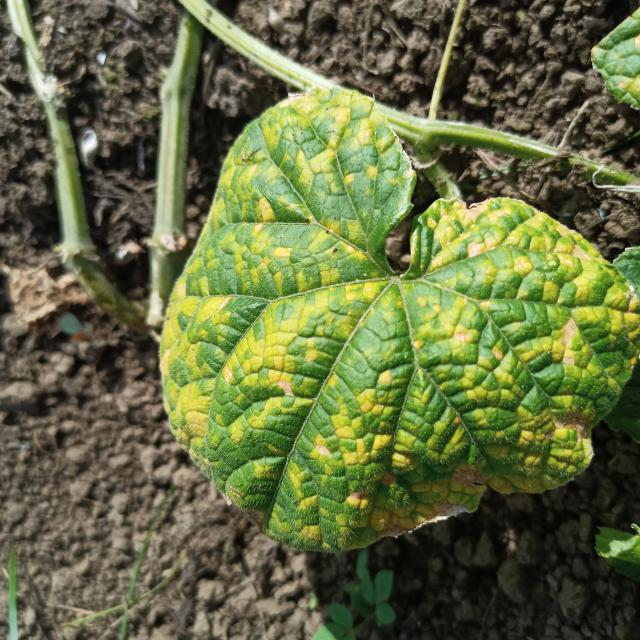disease_cucumber: (166, 96, 635, 542)
